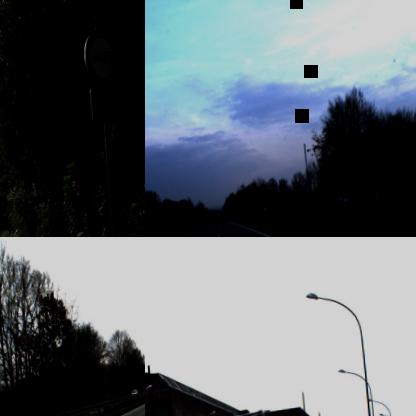no overtaking (trucks): (82, 27, 121, 89)
speed limit 120: (161, 199, 170, 212), (288, 189, 296, 202)
speed limit 50: (18, 331, 32, 352)
